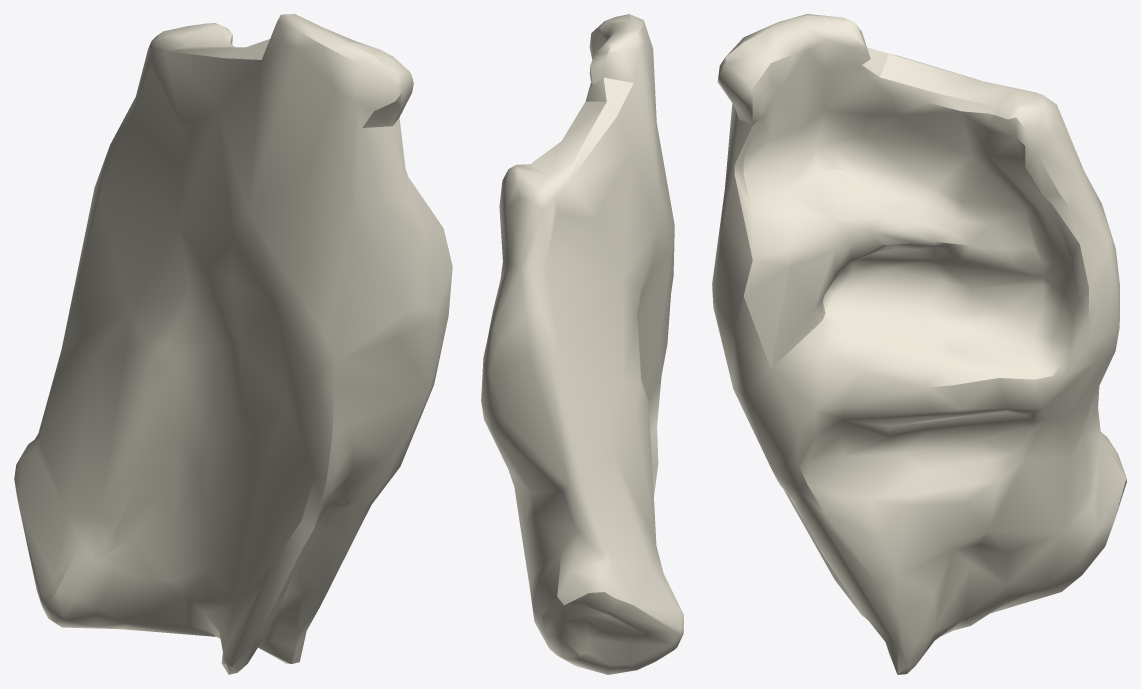
Rendered from fma53645.glb.
3 views of the same model, side by side, from view 1: azimuth 30°, elevation 25°; view 2: azimuth 150°, elevation 25°; view 3: azimuth 270°, elevation 25° (orthographic). The views are drawn at different scales.
Visible parts, largest first — view 1: FMA53645; view 2: FMA53645; view 3: FMA53645.
Boxes of the visible parts, x1,y1,x2,y2 form: FMA53645: (14,14,452,674); FMA53645: (481,14,683,674); FMA53645: (712,14,1126,674).
Bounding box in the file's own units: 0.0103 × 0.0244 × 0.0142.
